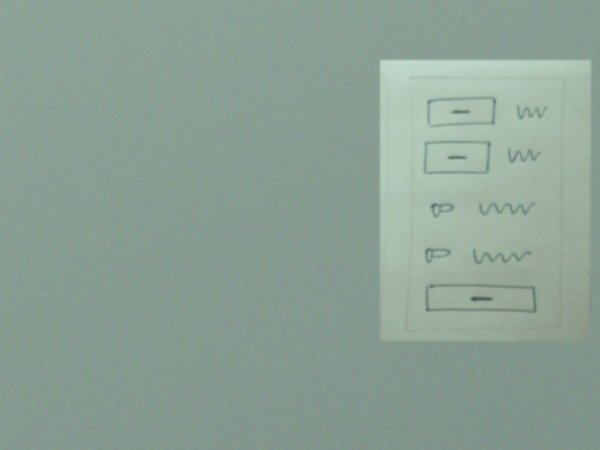button: (425, 281, 539, 319), (421, 139, 493, 180), (425, 94, 498, 129)
switch: (421, 245, 455, 268), (426, 197, 456, 219)
text: (468, 247, 535, 269), (478, 197, 535, 218), (502, 143, 542, 168), (512, 101, 548, 124)
